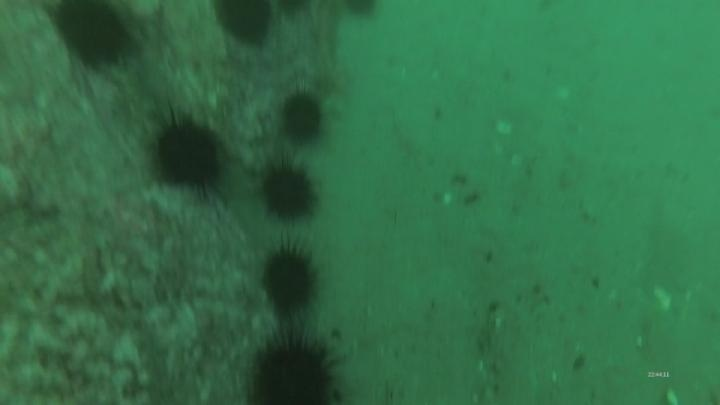echinus: (146, 109, 230, 199), (247, 330, 342, 405), (50, 2, 136, 69), (257, 239, 324, 319), (255, 157, 323, 225), (212, 1, 277, 49), (277, 87, 329, 146), (340, 0, 383, 23)
